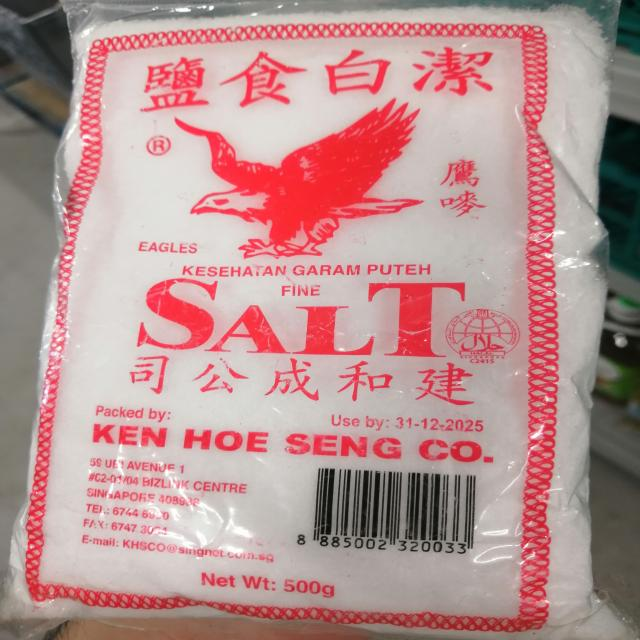object_name: (57, 0, 588, 621)
